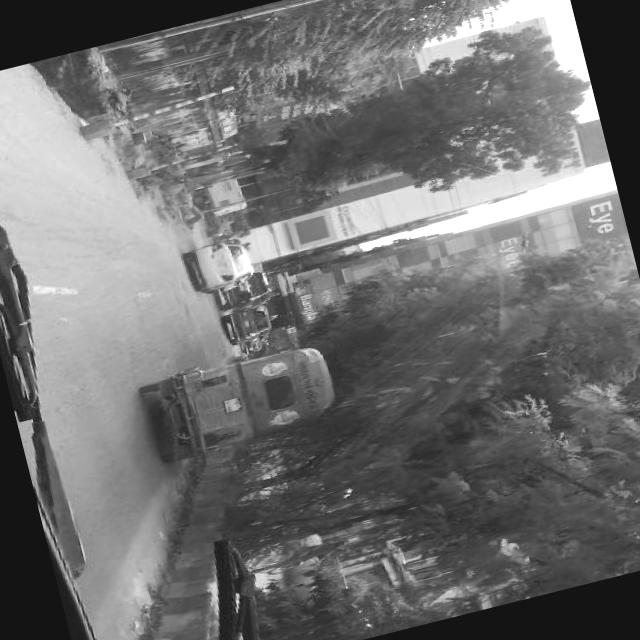car: (192, 238, 252, 290), (225, 304, 272, 342), (205, 212, 232, 236), (244, 330, 273, 352)
motorcycle: (140, 340, 340, 465)
truck: (189, 166, 246, 220), (218, 273, 271, 310)
